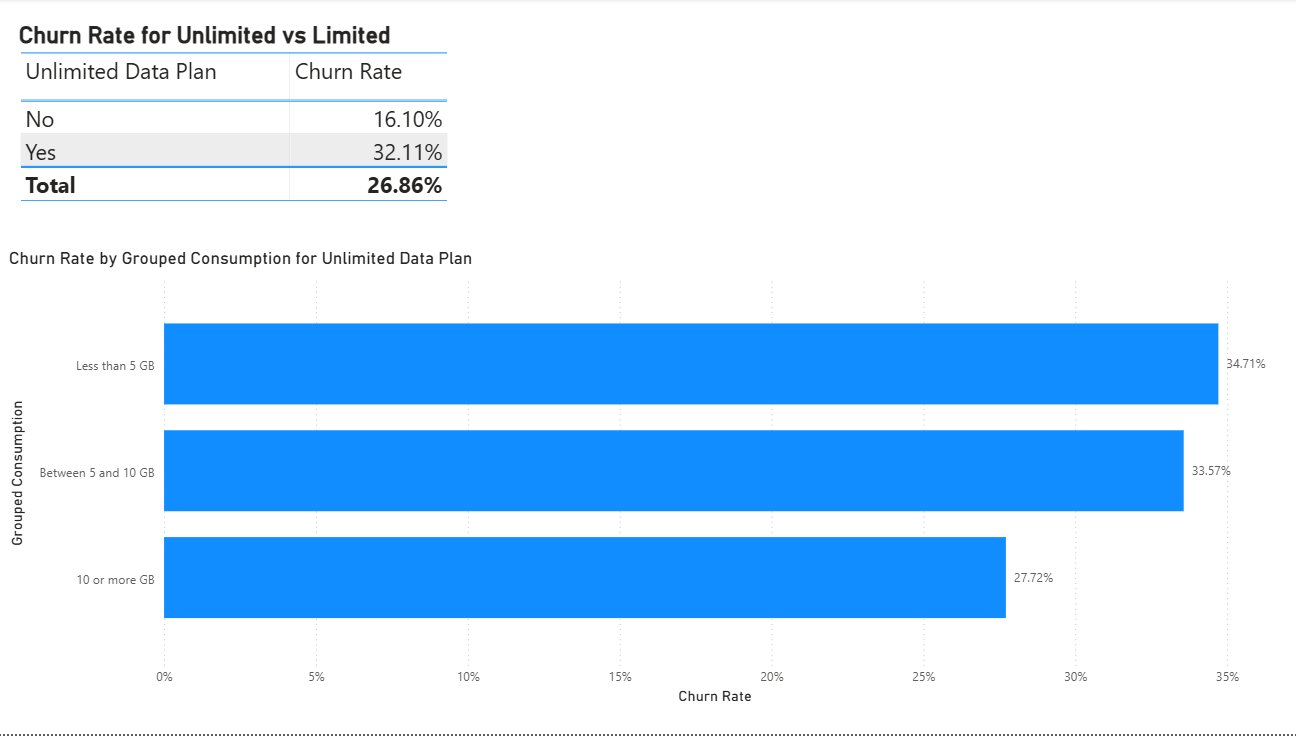

What the dashboard file says about the page in this screenshot:
{"tool":"powerbi","page":{"name":"Unlimited Plan","canvas":[1280,720],"ordinal":7},"visuals":[{"type":"tableEx","title":"Churn Rate for Unlimited vs Limited","fields":{"Values":["Databel - Data.Unlimited Data Plan","Databel - Data.Churn Rate"]},"box":[19.6,22,429.2,210.3],"z":0},{"type":"clusteredBarChart","title":"Churn Rate by Grouped Consumption for Unlimited Data Plan","fields":{"Category":["Databel - Data.Grouped Consumption"],"Y":["Databel - Data.Churn Rate"]},"box":[9.8,244.6,1252.2,451.2],"z":1000}]}

Visuals, with their boxes in screenshot pixels (x1, y1, x2, y2), scaled from the page's 1280x720 canvas onto the 1296x736 screenshot:
"Churn Rate for Unlimited vs Limited" tableEx: [20, 22, 454, 237]
"Churn Rate by Grouped Consumption for Unlimited Data Plan" clusteredBarChart: [10, 250, 1278, 711]
